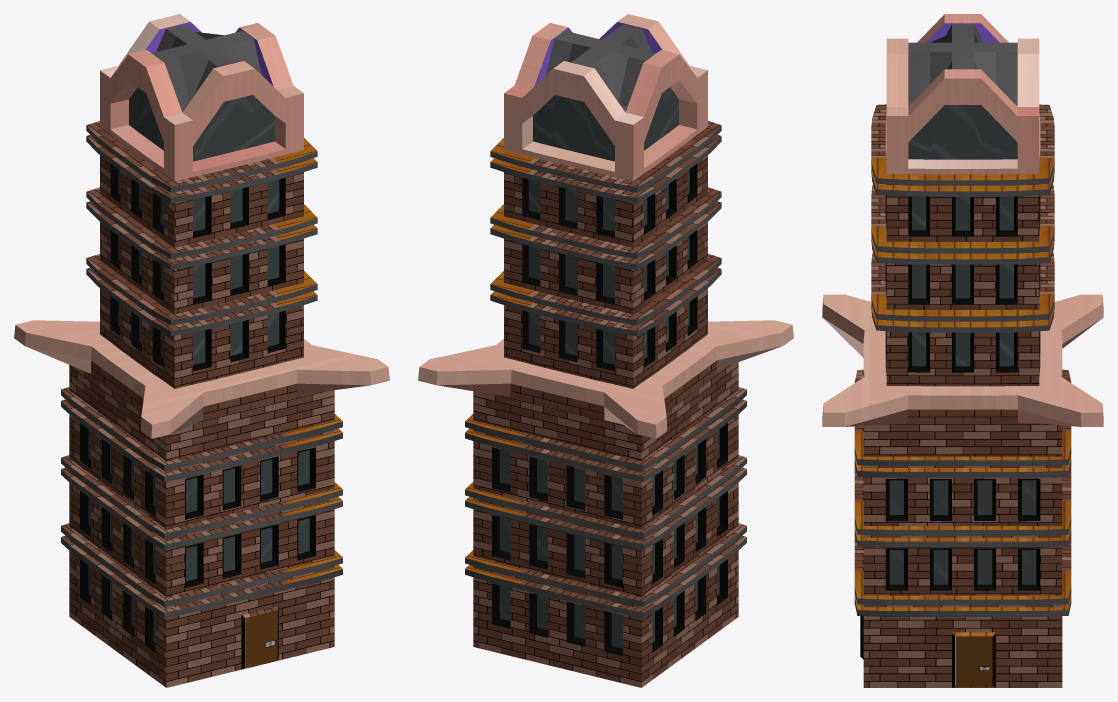
The model's file is level3SkyscraperTextured.fbx.
3 renders of one model, left to right at view 1: azimuth 30°, elevation 25°; view 2: azimuth 150°, elevation 25°; view 3: azimuth 270°, elevation 25°, orthographic. The views are drawn at different scales.
Visible parts, largest first — view 1: Cube; view 2: Cube; view 3: Cube.
Part boxes in pixels (bbox=[...]): Cube: bbox=[14, 14, 389, 687]; Cube: bbox=[418, 14, 793, 687]; Cube: bbox=[822, 14, 1103, 687].
Size of the model in its own units: 680 by 1600 by 680.
